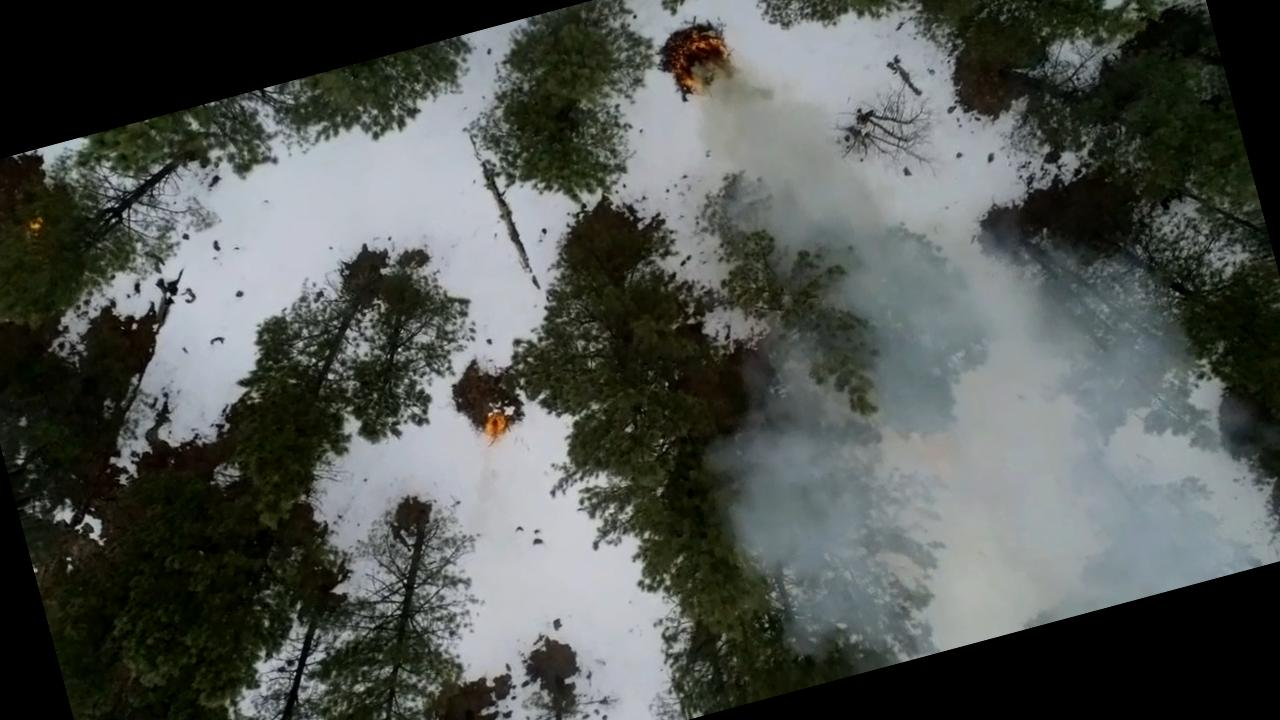fire: (661, 24, 760, 125), (469, 408, 518, 466)
smoke: (810, 211, 1256, 662), (705, 369, 942, 638)
